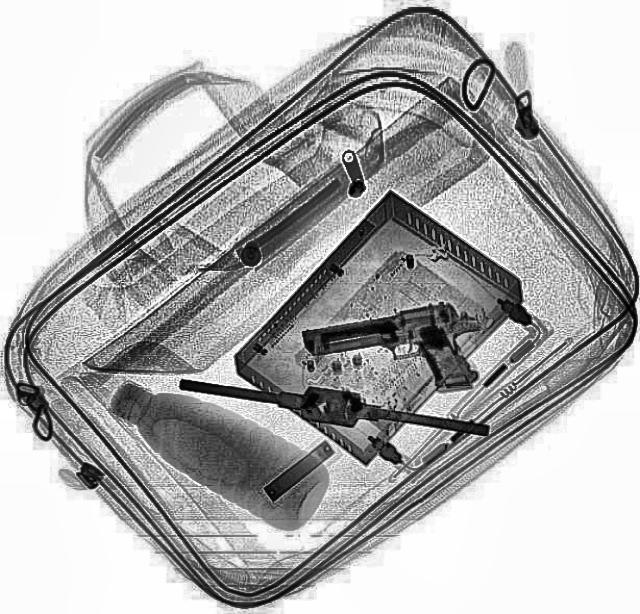Gun: (297, 295, 491, 413)
